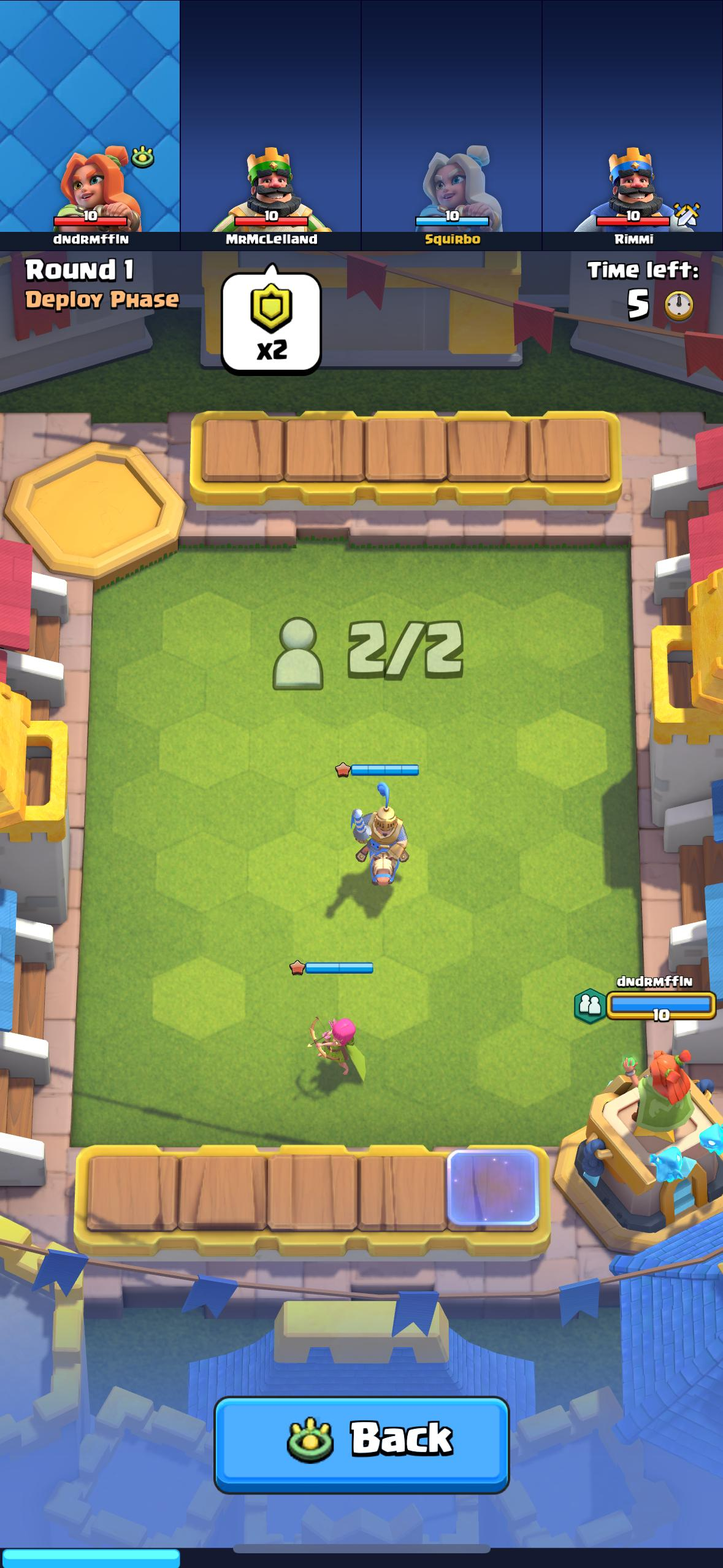archer: (303, 999, 375, 1093)
prince: (344, 778, 414, 899)
